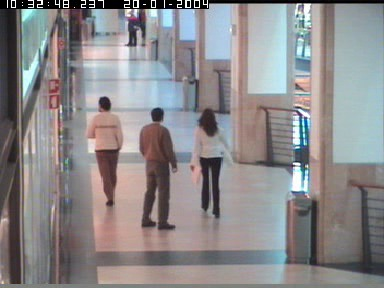person: (190, 107, 234, 218), (138, 106, 177, 229), (86, 96, 124, 207), (125, 10, 139, 47), (139, 10, 147, 47)
